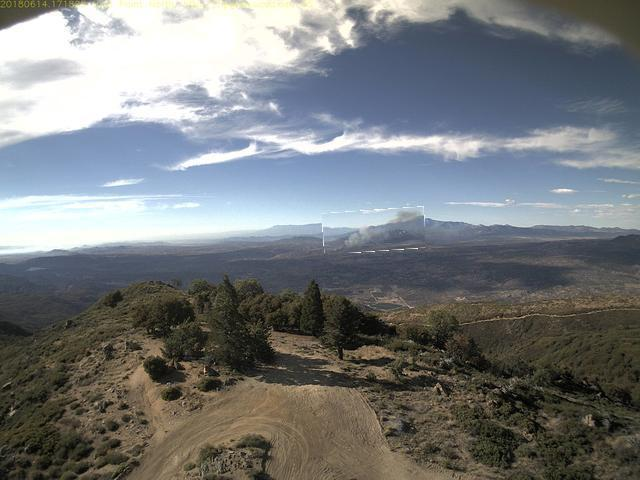smoke: (324, 209, 427, 254)
